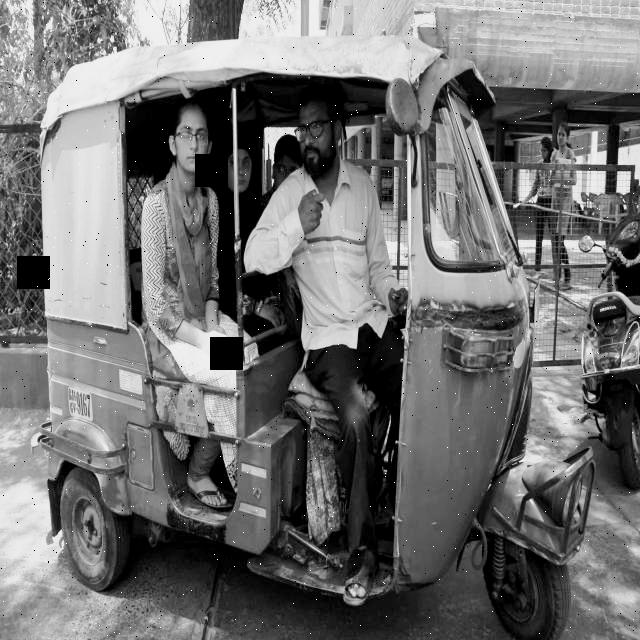Auto-Rickshaw: (26, 35, 590, 639)
